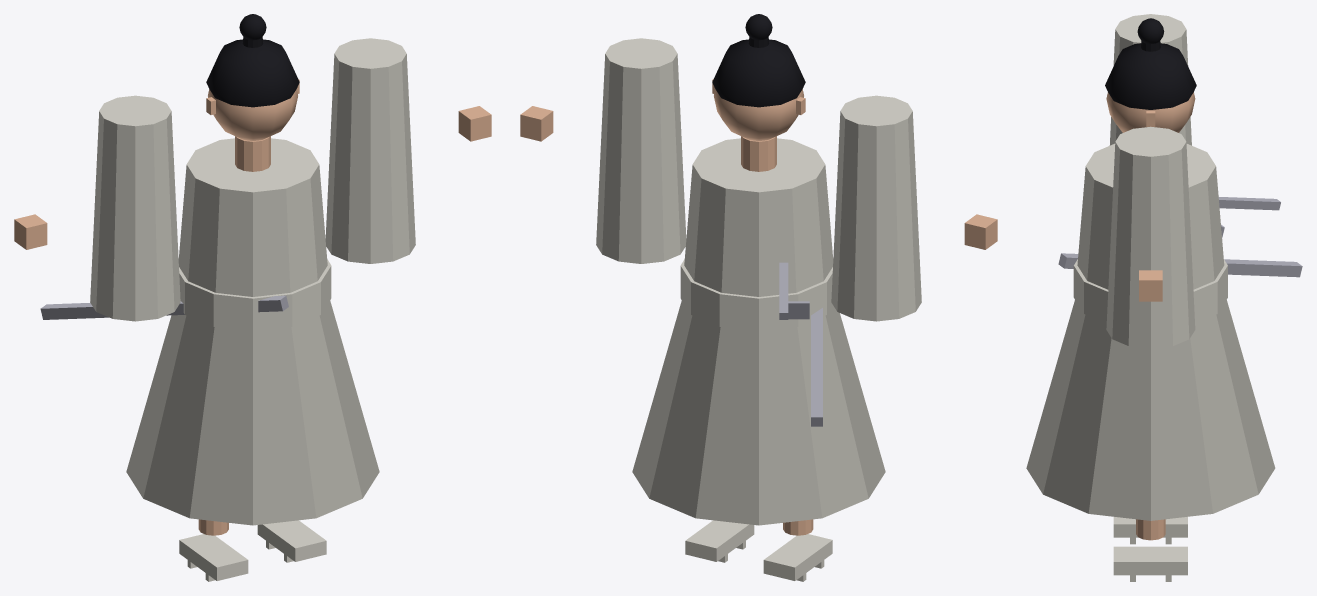
File: samurai_warrior.obj
3 renders of one model, left to right at view 1: azimuth 30°, elevation 25°; view 2: azimuth 150°, elevation 25°; view 3: azimuth 270°, elevation 25°, orthographic.
Visible parts, largest first — view 1: Cloth, Skin, Hair, Sword; view 2: Cloth, Skin, Hair, Sword; view 3: Cloth, Hair, Skin, Sword.
Part boxes in pixels (x1,y1,x2,y2): Cloth: (90,38,415,581); Skin: (14,79,491,535); Hair: (206,14,299,107); Sword: (40,295,288,319); Cloth: (596,38,921,581); Skin: (520,79,997,535); Hair: (712,14,805,107); Sword: (779,262,822,426); Cloth: (1026,14,1275,581); Hair: (1105,18,1196,109); Skin: (1106,92,1195,540); Sword: (1058,197,1302,277).
Size of the model in its own units: 1.78 by 2 by 0.9318.
